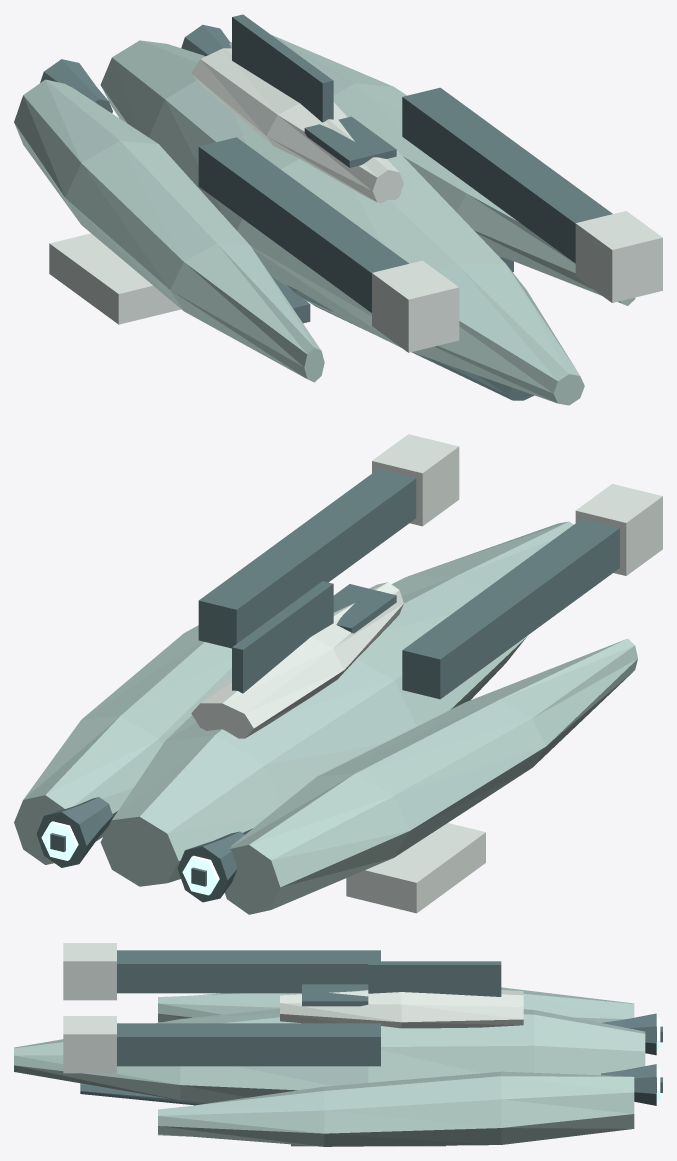
3 renders of one model, top to bottom at view 1: azimuth 30°, elevation 25°; view 2: azimuth 150°, elevation 25°; view 3: azimuth 270°, elevation 25°, orthographic. The views are drawn at different scales.
Bounding box in the file's own units: 11.85 × 6.53 × 24.1.
